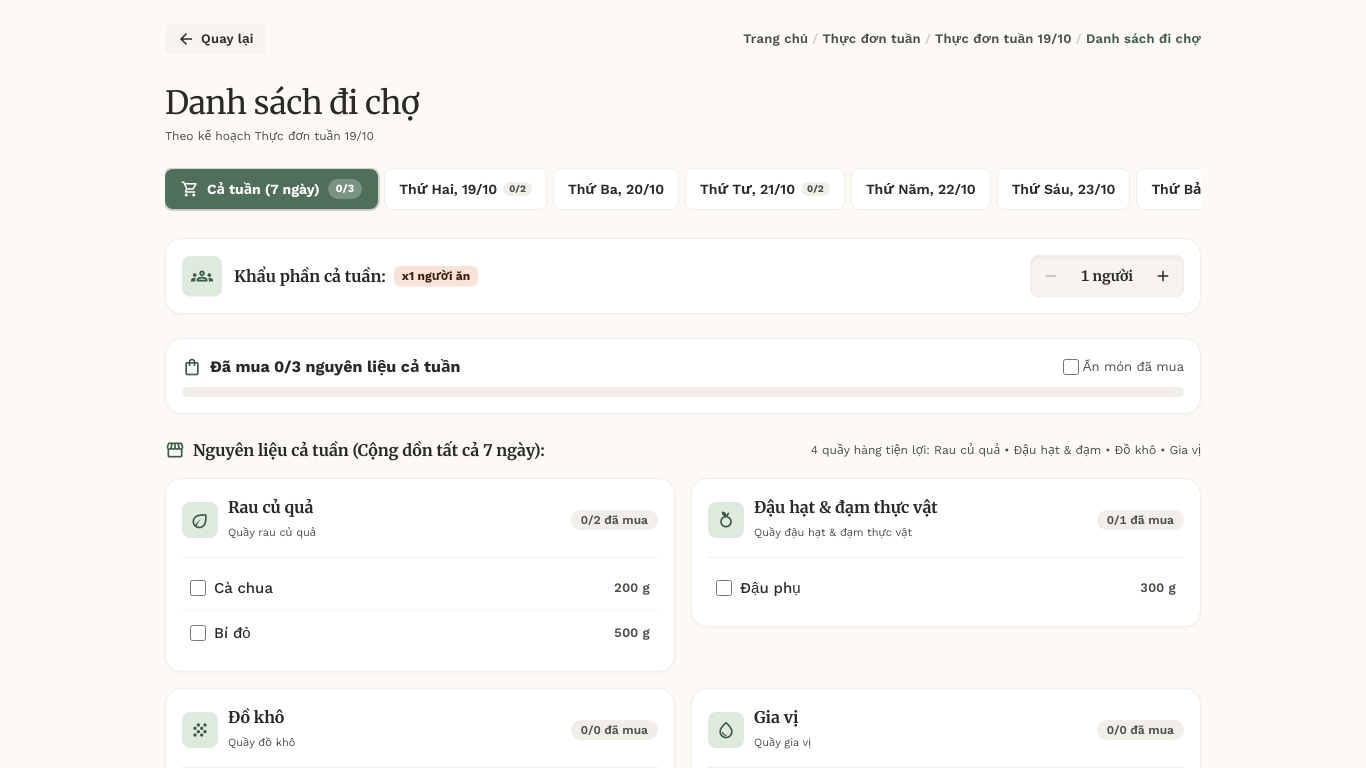
Test: ShoppingList (SCR-24) - Tính năng đi chợ linh hoạt theo ngày & khẩu phần ăn › 2. Thay đổi số người ăn tự động nhân khối lượng theo tỷ lệ chuẩn và tự động đổi sang kg khi >= 1000g
Expected: the text "Cà chua" is shown, [214,576,273,600]
Expected: the text "500 g" is shown, [614,624,650,642]
Note: Tăng lên 2 người bằng nút Stepper [+]
What coordinates should you click on to do the following:
click the button named "Tăng 1 người"
I would click on:
 (1163, 276)
Its box is [1147,260,1179,292].
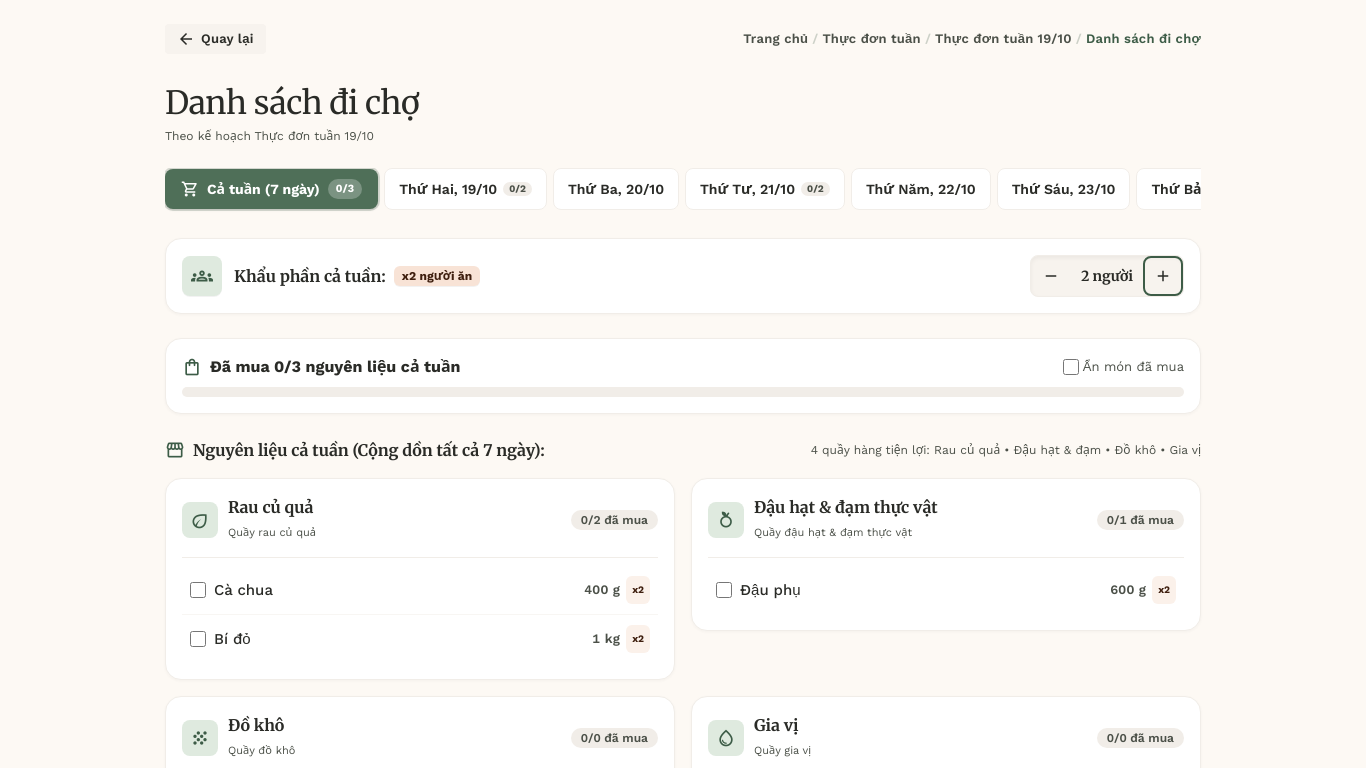
Result: the text "400 g" is shown at [584,581,620,599]
Result: the text "1 kg" is shown at [592,630,620,648]
Result: the text "600 g" is shown at [1110,581,1146,599]
Note: Tăng tiếp lên 4 người (thêm 2 lần click)
What coordinates should you click on to do the following:
click the button named "Tăng 1 người"
I would click on:
 (1163, 276)
Its box is [1147,260,1179,292].
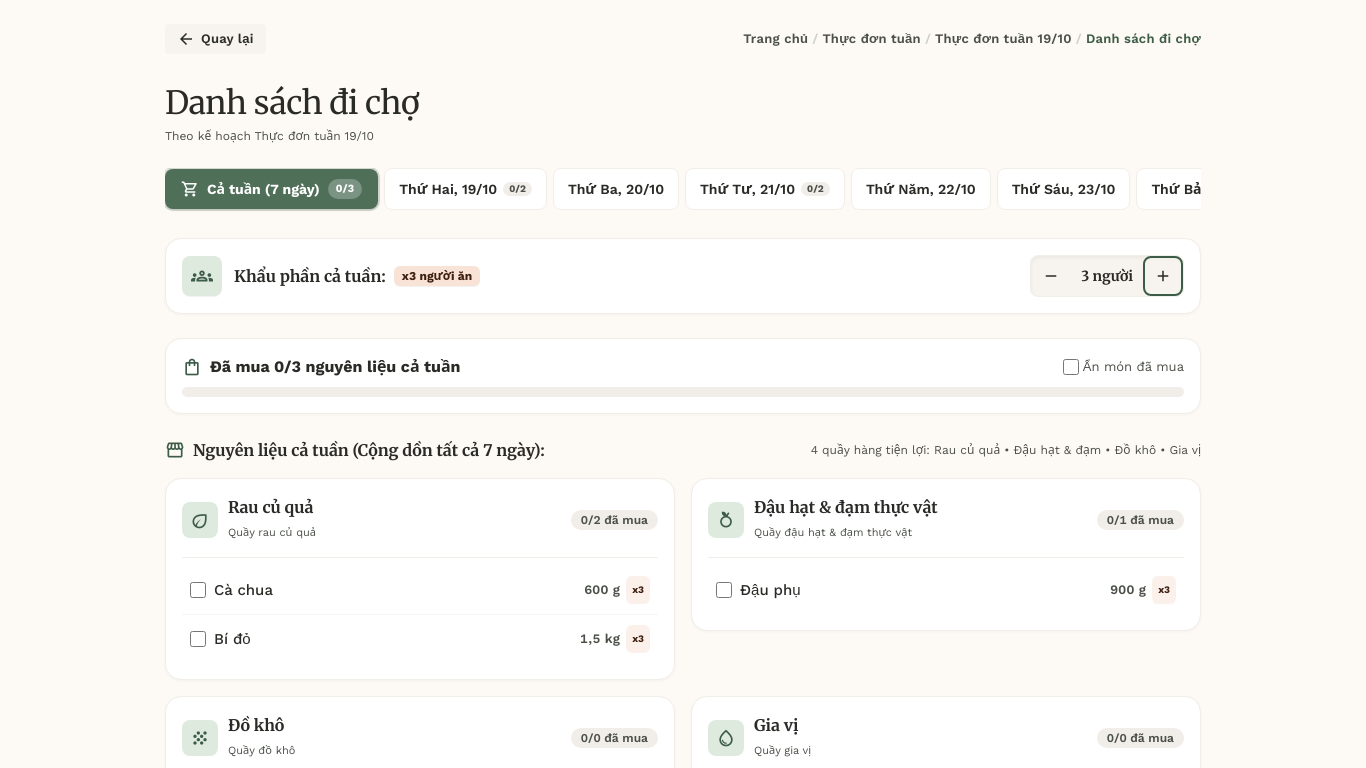
What coordinates should you click on to do the following:
click the button named "Tăng 1 người"
I would click on:
 (1163, 276)
Its box is [1147,260,1179,292].
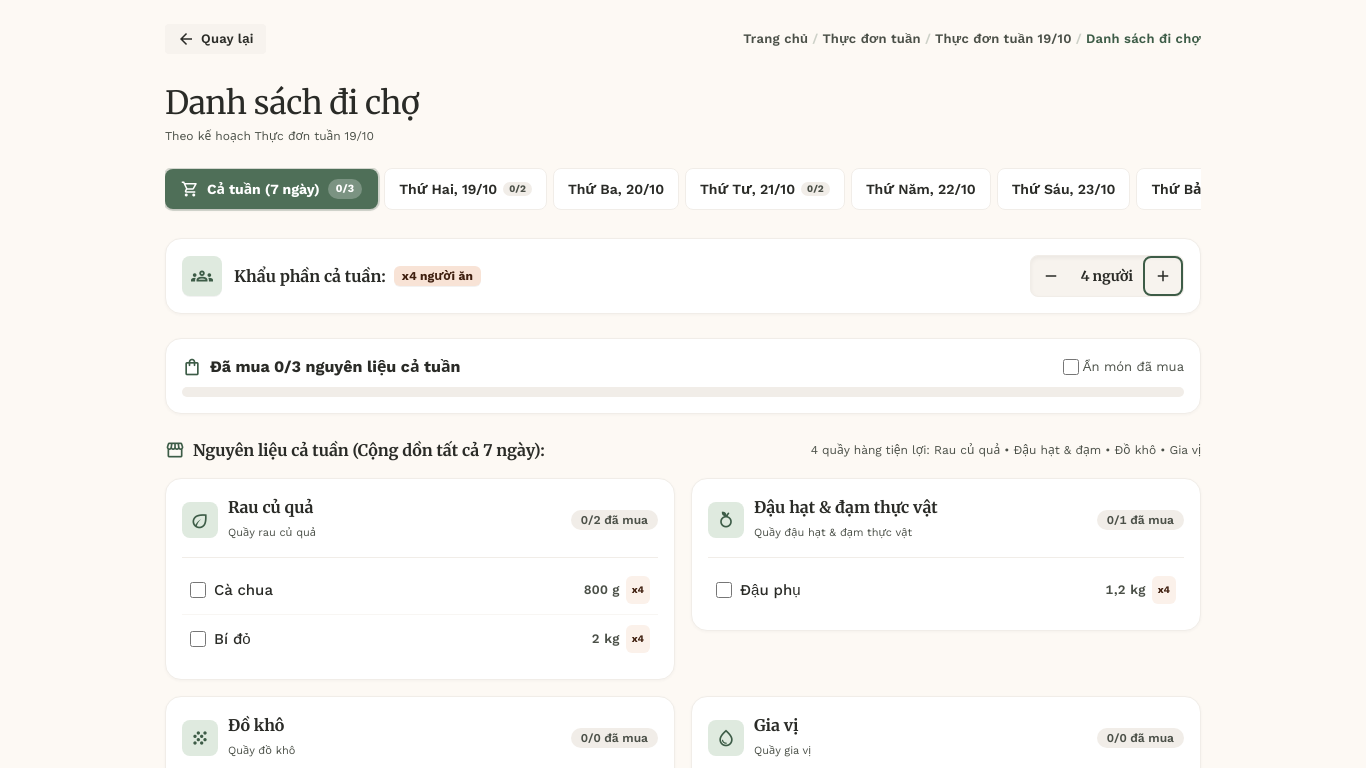
Result: the text "2 kg" is shown at [592,630,620,648]
Result: the text "800 g" is shown at [584,581,620,599]
